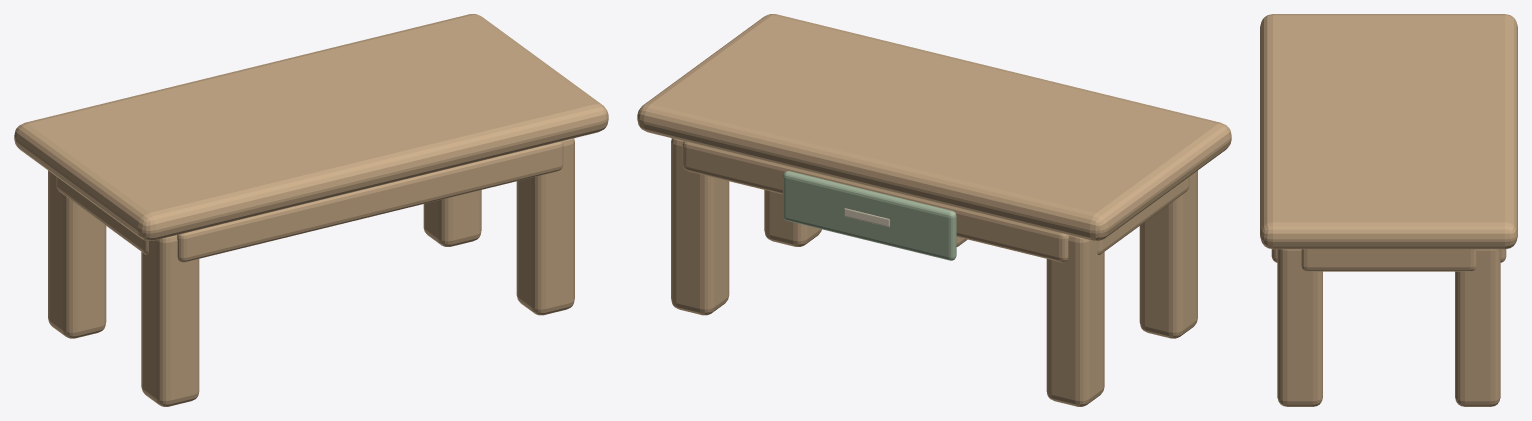
Rendered from desk.glb.
3 renders of one model, left to right at view 1: azimuth 30°, elevation 25°; view 2: azimuth 150°, elevation 25°; view 3: azimuth 270°, elevation 25°, orthographic. The views are drawn at different scales.
Visible parts, largest first — view 1: Rounded oat wood tabletop, Chunky legs, aprons, drawer body and cream pull; view 2: Rounded oat wood tabletop, Chunky legs, aprons, drawer body and cream pull, Soft sage study drawer front; view 3: Rounded oat wood tabletop, Chunky legs, aprons, drawer body and cream pull.
Boxes of the visible parts, bbox=[...] form: Rounded oat wood tabletop: bbox=[14, 14, 608, 240]; Chunky legs, aprons, drawer body and cream pull: bbox=[48, 138, 574, 406]; Rounded oat wood tabletop: bbox=[637, 14, 1231, 240]; Chunky legs, aprons, drawer body and cream pull: bbox=[671, 138, 1197, 406]; Soft sage study drawer front: bbox=[783, 171, 956, 260]; Rounded oat wood tabletop: bbox=[1260, 14, 1517, 249]; Chunky legs, aprons, drawer body and cream pull: bbox=[1271, 249, 1506, 406].
Bounding box in the file's own units: 1.8 × 0.75 × 0.9.
